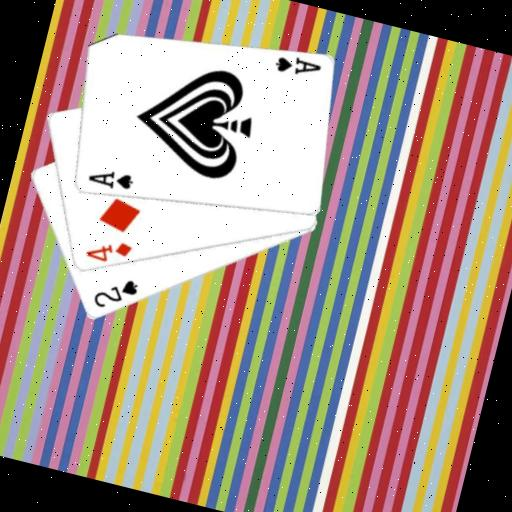2S: (88, 269, 142, 318)
4D: (81, 231, 135, 270)
AS: (270, 49, 325, 84), (83, 162, 136, 195)
